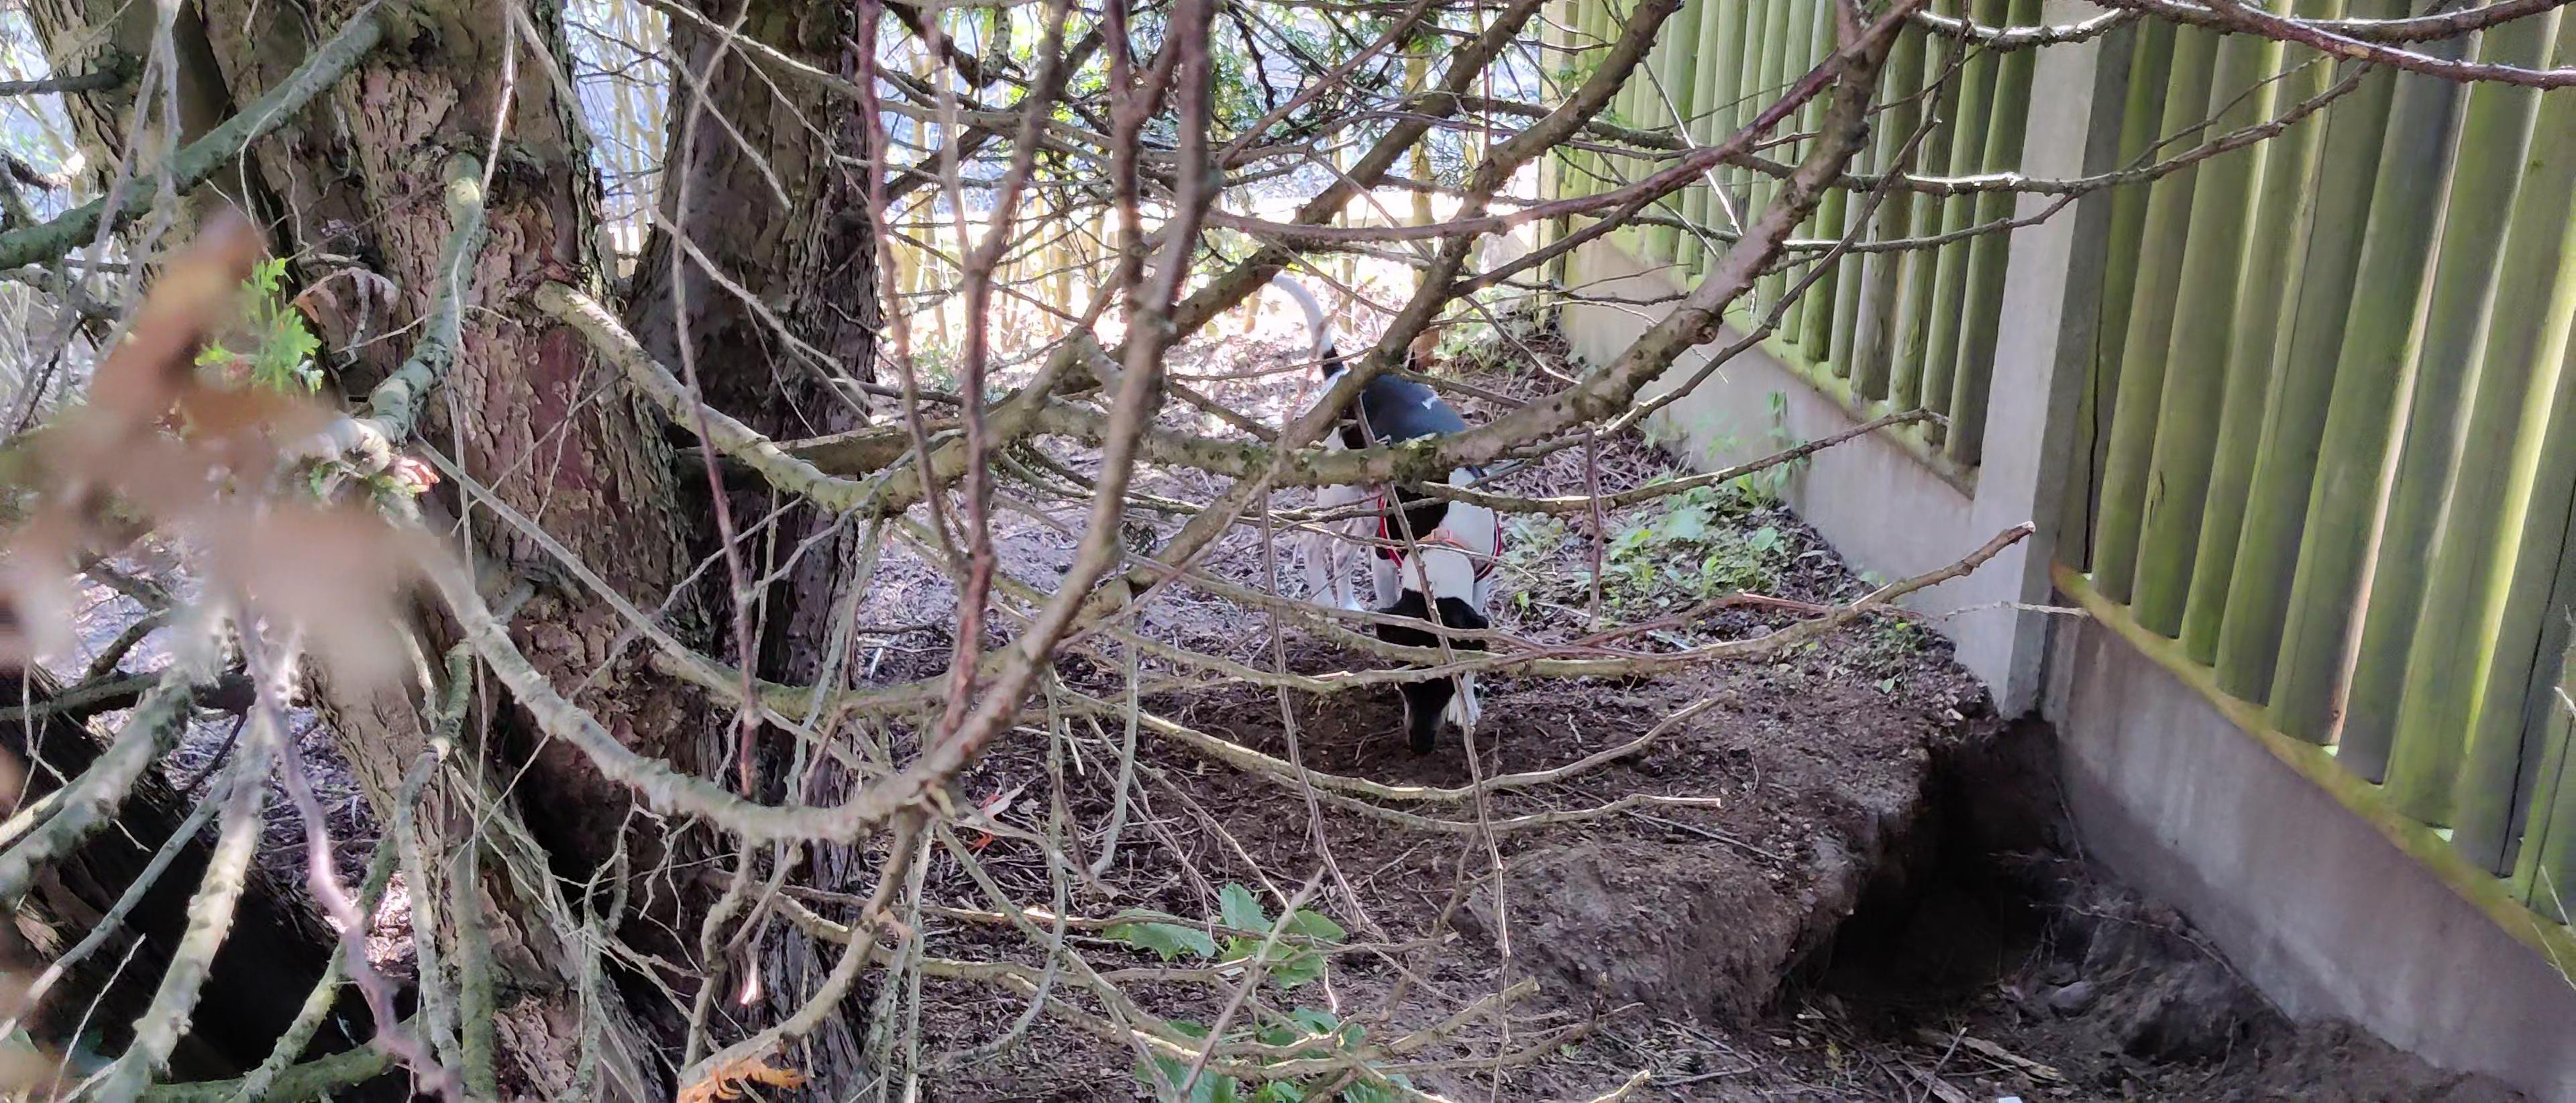Dog: (1240, 260, 1515, 766)
